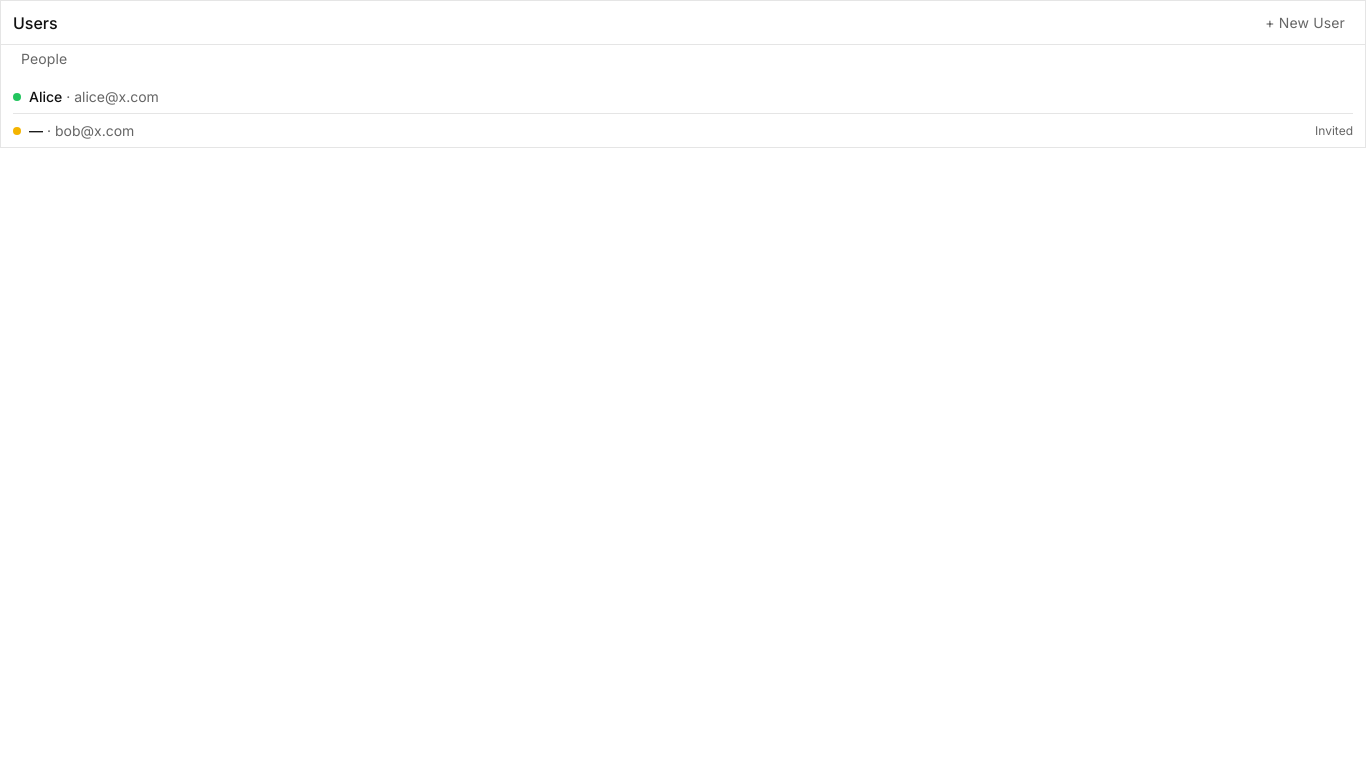
Scenario: UserManagementPanel › A5: the sheet holds email, status select, roles with add, reset, open space and edit
The width and height of the screenshot is (1366, 768).
Expected: the text "Alice" is shown, [29,88,62,105]
Click the button "Alice · alice@x.com" at (46, 96), box [13,88,1353,105]
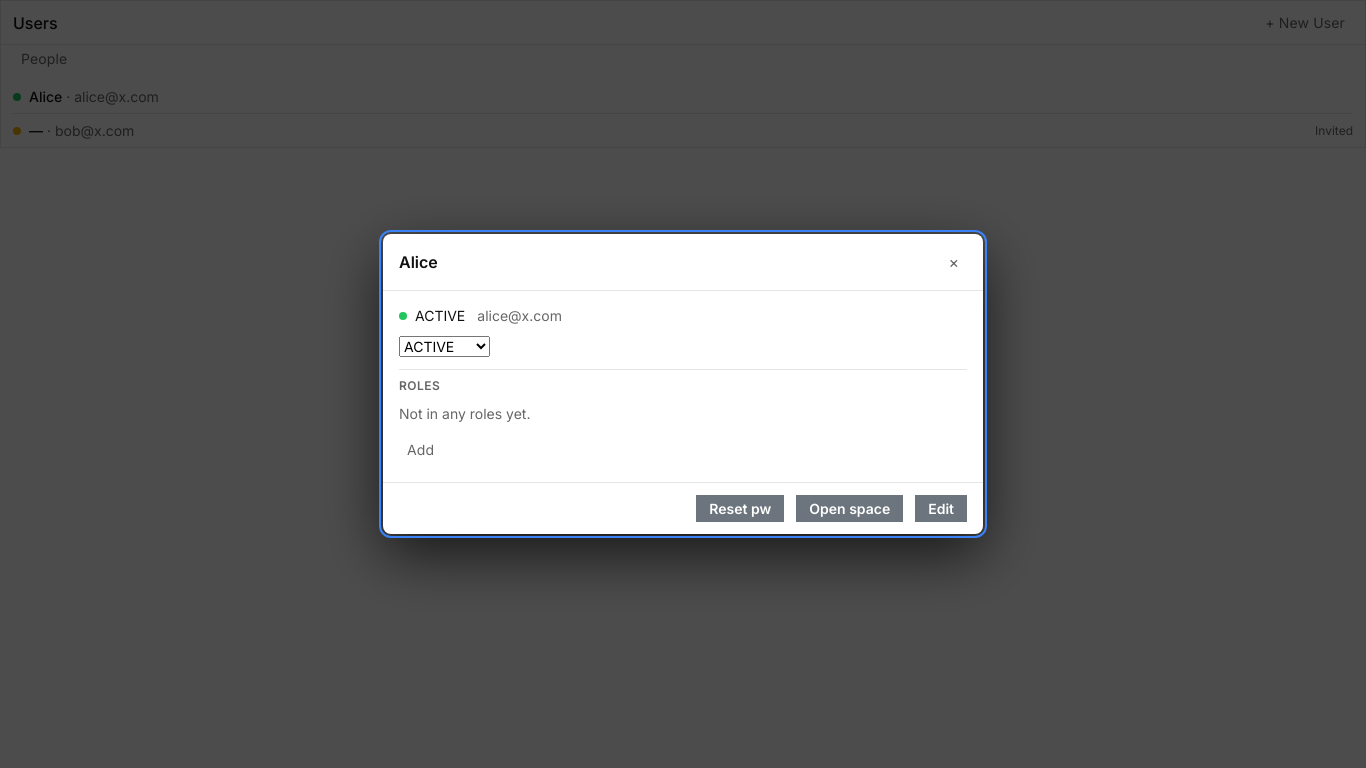
Expected: the text "alice@x.com" is shown, [477,307,562,324]
Expected: the dropdown named "status" shows "ACTIVE", [399,336,490,357]
Expected: the dropdown named "add role" is shown, [399,434,458,466]
